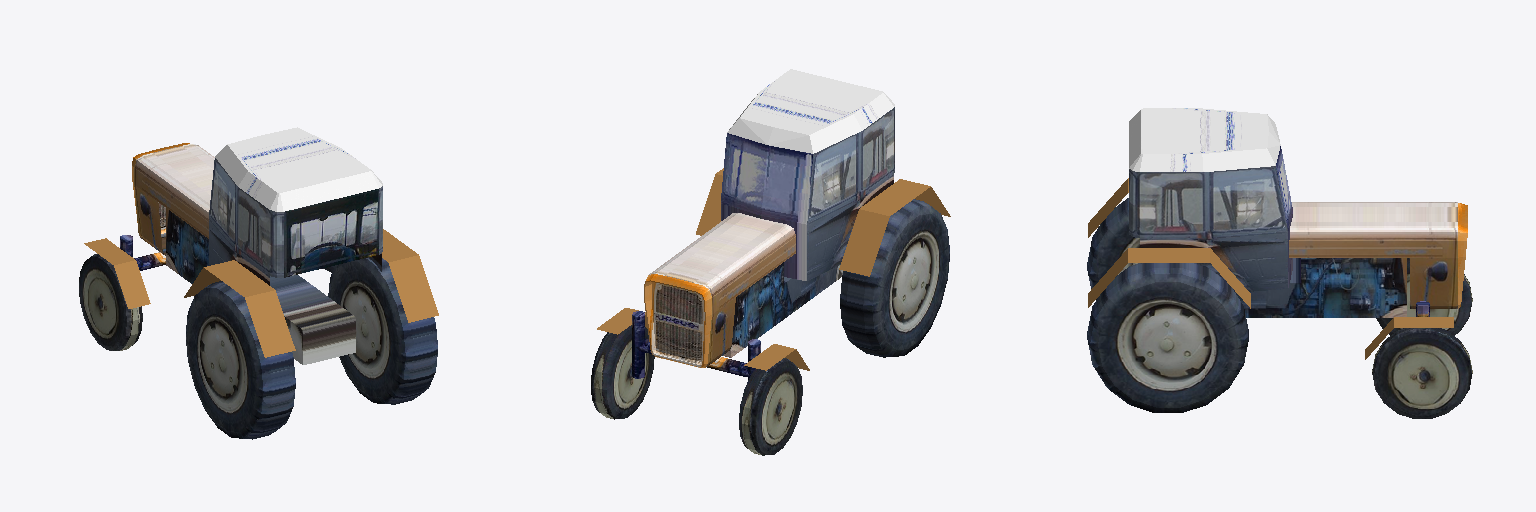
3 renders of one model, left to right at view 1: azimuth 30°, elevation 25°; view 2: azimuth 150°, elevation 25°; view 3: azimuth 270°, elevation 25°, orthographic.
Parts seen in each view (by area): view 1: wheels, body, kabina; view 2: body, kabina, wheels; view 3: wheels, body, kabina.
Part boxes in pixels (bbox=[...]): wheels: bbox=[79, 254, 437, 439]; body: bbox=[84, 143, 438, 364]; kabina: bbox=[209, 127, 382, 285]; body: bbox=[597, 168, 950, 379]; kabina: bbox=[721, 69, 894, 280]; wheels: bbox=[591, 199, 949, 455]; wheels: bbox=[1087, 198, 1472, 418]; body: bbox=[1088, 178, 1467, 359]; kabina: bbox=[1129, 108, 1292, 292].
Size of the model in its own units: 1.92 by 2.55 by 3.57.
1 materials, 1 textured.